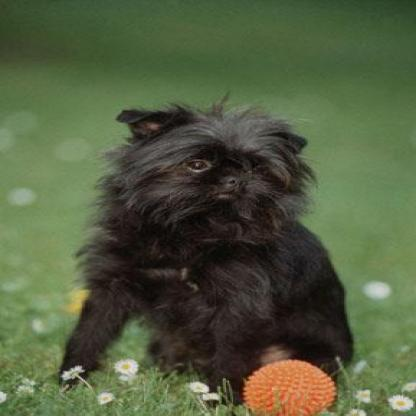affenpinscher: (56, 102, 347, 408)
